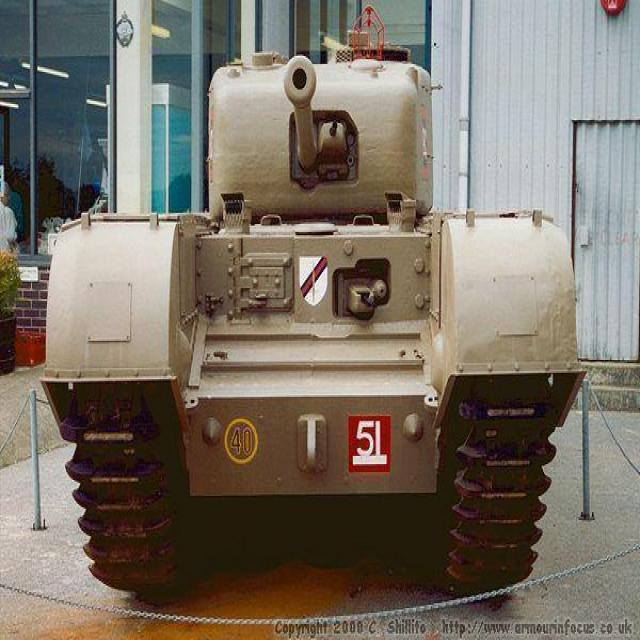Tanks: (44, 55, 575, 612)
